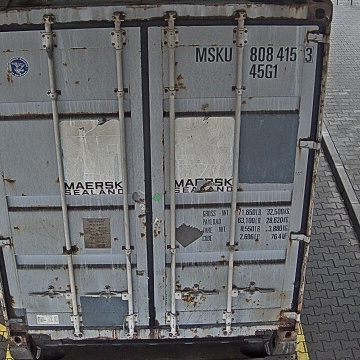serial_id: (195, 47, 313, 62)
